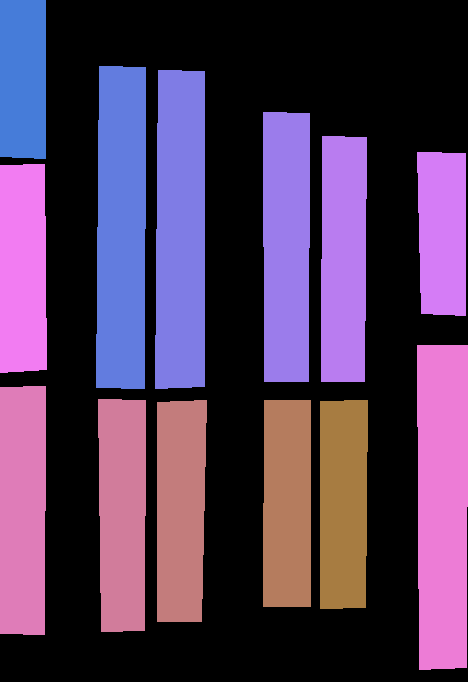parkingspot: (417, 345, 467, 669), (96, 66, 145, 388), (155, 70, 204, 388), (263, 112, 309, 381), (0, 386, 45, 634), (321, 136, 366, 381), (98, 399, 145, 631), (157, 400, 206, 621), (320, 400, 367, 608), (263, 400, 310, 606), (0, 164, 46, 372), (417, 152, 465, 315), (0, 0, 45, 158)
